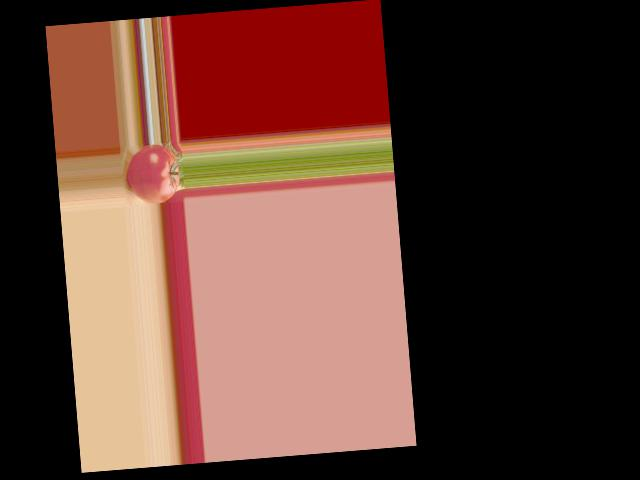tomato: (125, 143, 181, 205)
